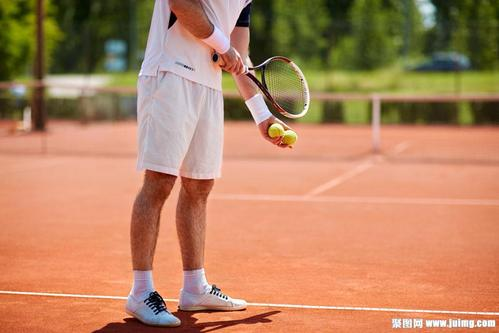no-phone: (211, 40, 260, 80), (255, 114, 302, 151)
